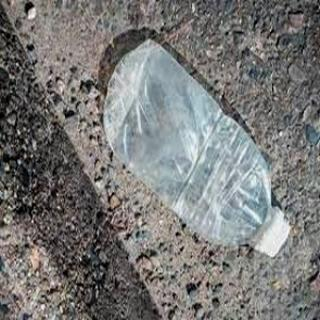Plastic: (103, 41, 292, 259)
